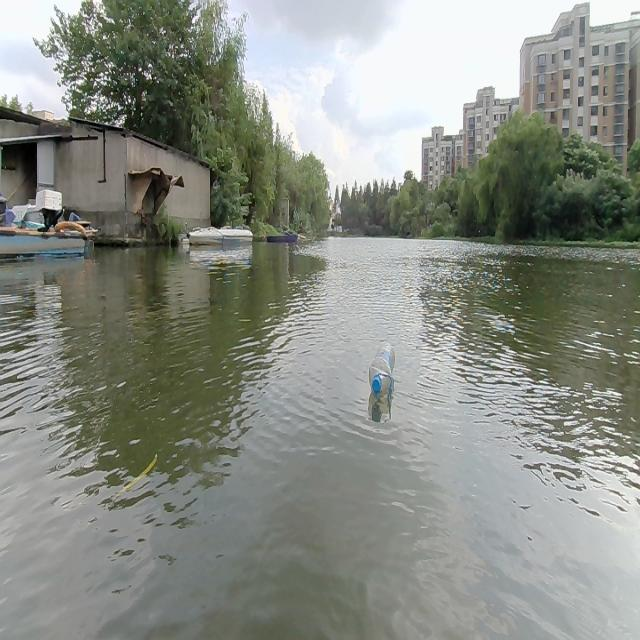bottle: (367, 335, 397, 400)
